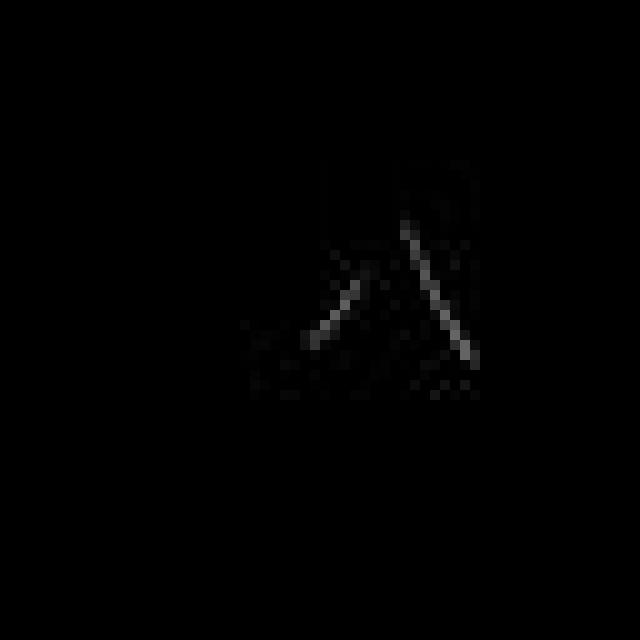8 -eight-: (302, 212, 492, 382)
